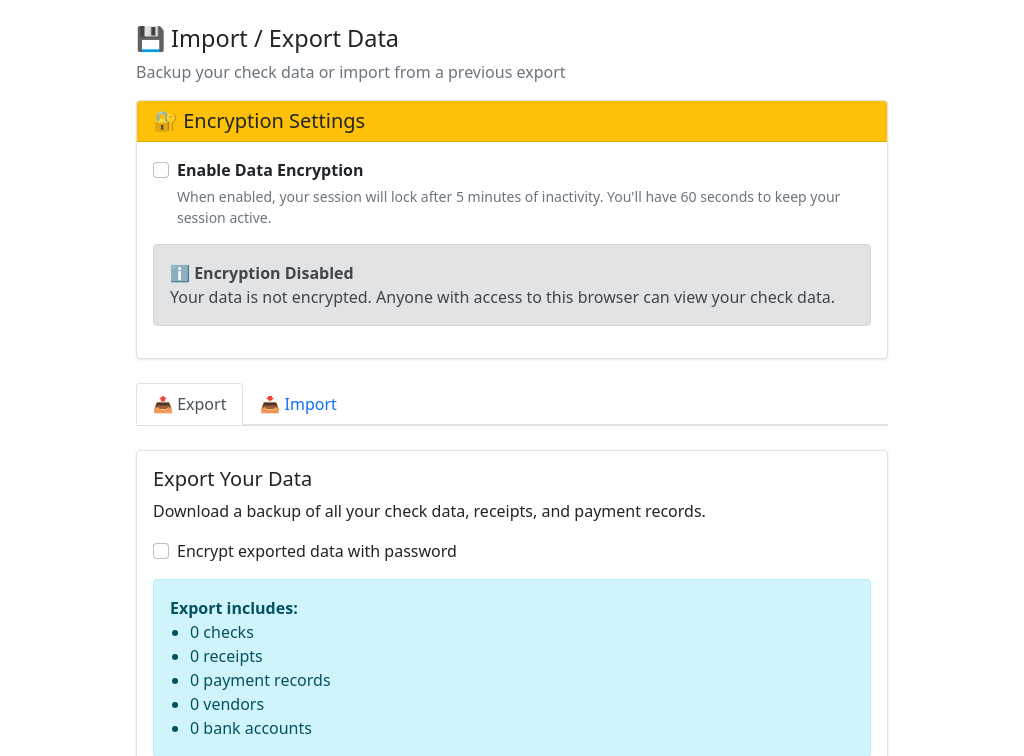
Test: encryption toggle UI › shows export password field when exportEncrypted is checked
Click the checkbox with id "exportEncrypted".
click(161, 551)  # box 153,543 -> 169,559
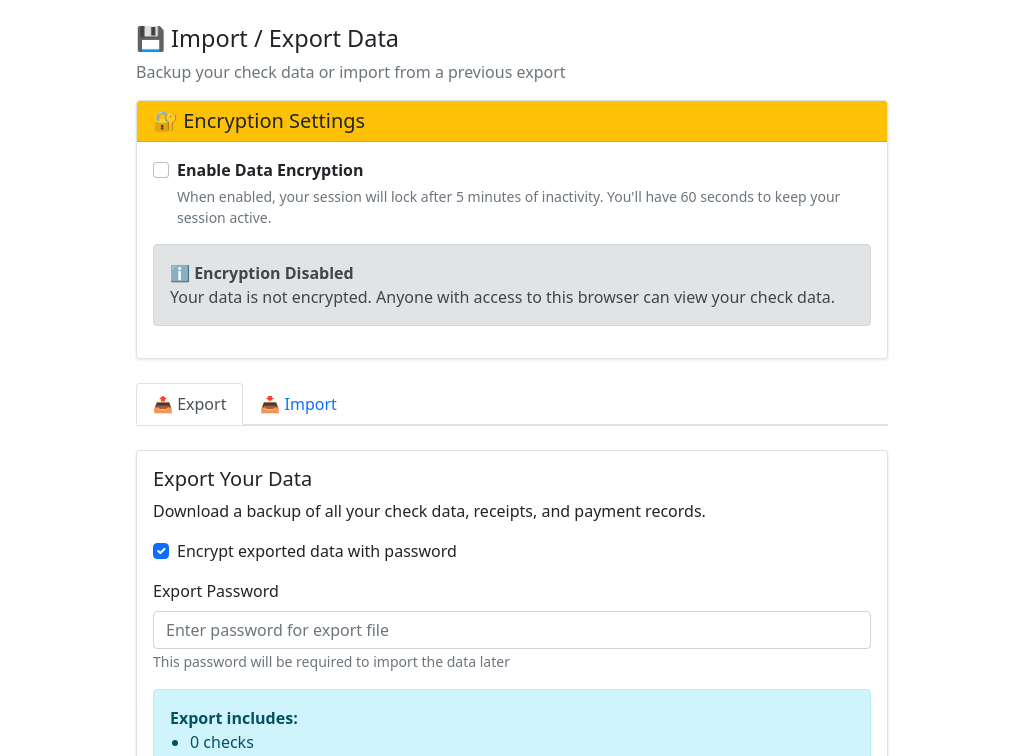
Result: the password field with id "exportPassword" is shown at 153,611 -> 871,649
